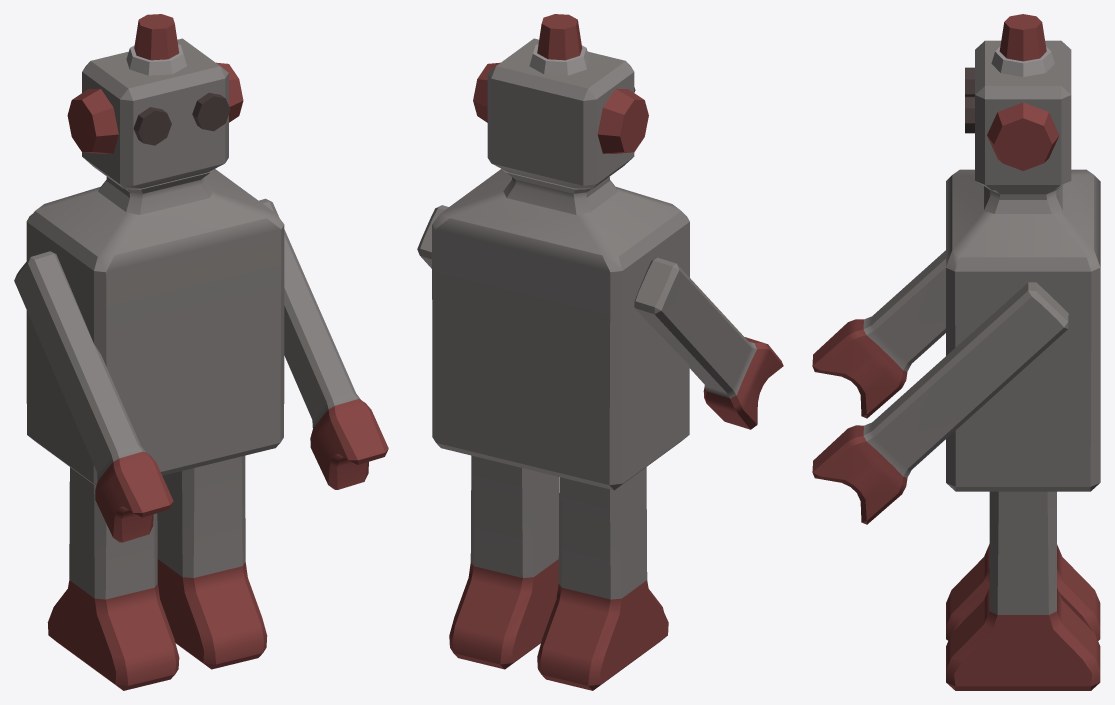
The model's file is toy_robot.fbx.
3 views of the same model, side by side, from view 1: azimuth 30°, elevation 25°; view 2: azimuth 150°, elevation 25°; view 3: azimuth 270°, elevation 25° (orthographic).
Visible parts, largest first — view 1: pCube2, pCube6, pCube3, pCube7, pCube5, pCylinder1, pCylinder6, pCylinder5, pCylinder4, pCylinder2; view 2: pCube2, pCube3, pCube6, pCube7, pCylinder1, pCylinder6, pCylinder2, pCube5; view 3: pCube2, pCube6, pCube5, pCube7, pCube3, pCylinder2, pCylinder1.
Boxes of the visible parts, x1,y1,x2,y2 form: pCube2: [26, 38, 284, 485]; pCube6: [157, 455, 267, 669]; pCube3: [47, 467, 179, 690]; pCube7: [14, 251, 173, 542]; pCube5: [259, 198, 388, 489]; pCylinder1: [126, 14, 186, 75]; pCylinder6: [67, 88, 118, 153]; pCylinder5: [192, 92, 230, 131]; pCylinder4: [133, 107, 171, 145]; pCylinder2: [216, 62, 243, 122]; pCube2: [432, 38, 689, 490]; pCube3: [537, 467, 668, 690]; pCube6: [449, 455, 558, 669]; pCube7: [634, 257, 783, 429]; pCylinder1: [529, 14, 589, 75]; pCylinder6: [597, 88, 648, 153]; pCylinder2: [473, 62, 500, 122]; pCube5: [417, 205, 448, 268]; pCube2: [946, 40, 1100, 491]; pCube6: [946, 491, 1100, 690]; pCube5: [812, 282, 1068, 524]; pCube7: [812, 250, 945, 418]; pCube3: [946, 544, 1100, 640]; pCylinder2: [987, 102, 1059, 170]; pCylinder1: [991, 14, 1054, 76].
Bounding box in the file's own units: 18.86 × 43.41 × 17.84.
